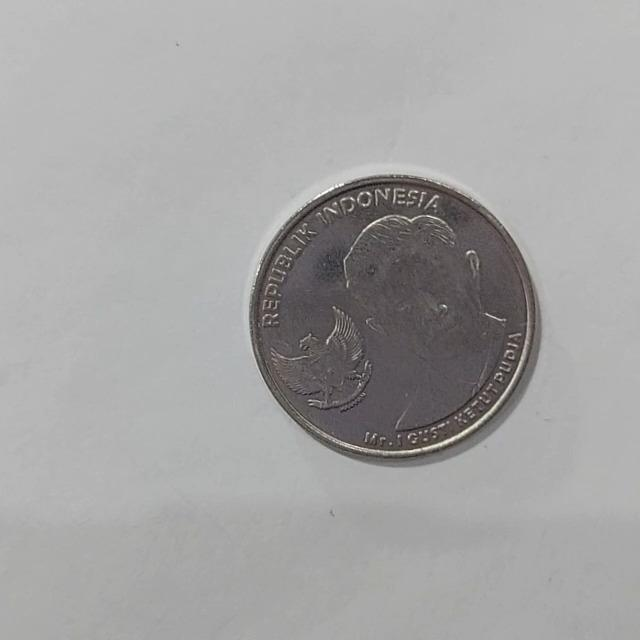Rp100: (248, 168, 538, 463)
